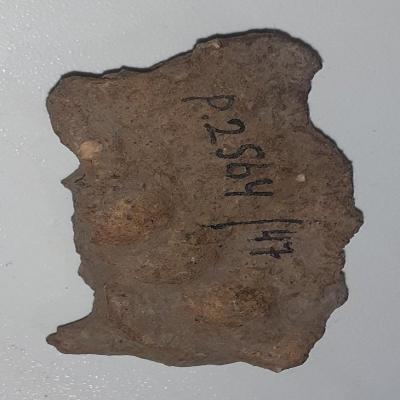archeology: (44, 28, 364, 375)
